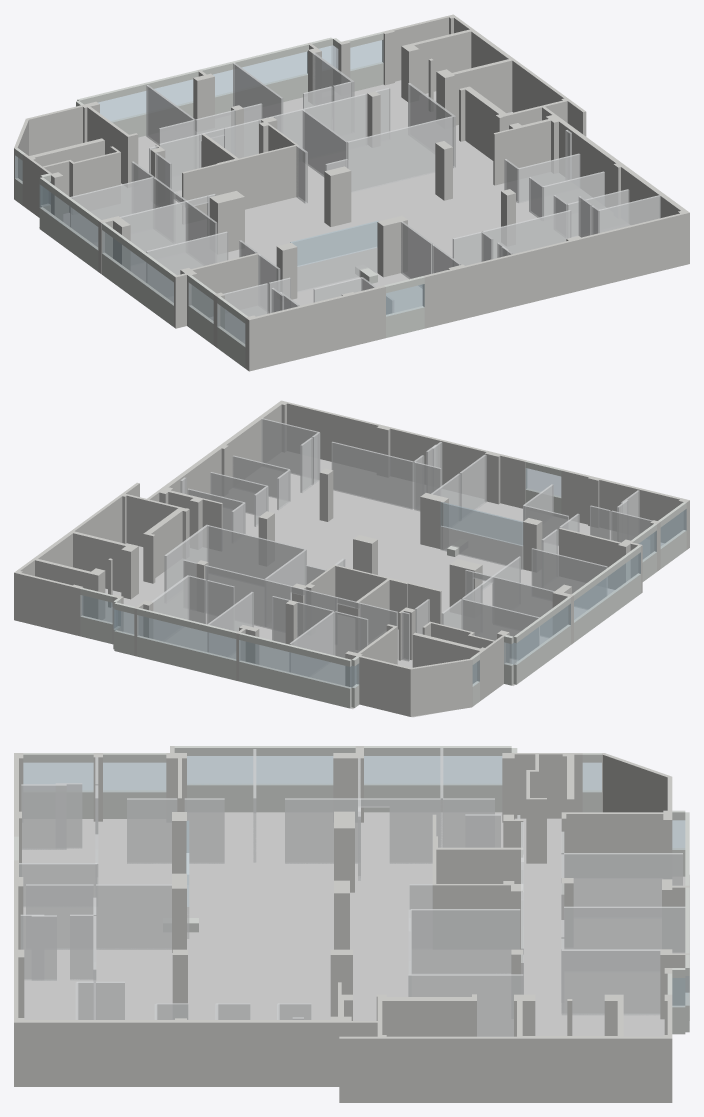
The model's file is 08-vector-partitions.glb.
The picture shows the model from 3 angles, top to bottom: view 1: azimuth 30°, elevation 25°; view 2: azimuth 150°, elevation 25°; view 3: azimuth 270°, elevation 25°; orthographic projection. The views are drawn at different scales.
Parts seen in each view (by area): view 1: Floor4_08-vector-partitions_concrete_Blocking, Floor4_08-vector-partitions_acrylic_Blocking, Floor4_08-vector-partitions_Floor, Floor4_08-vector-partitions_wall_Blocking, Floor4_08-vector-partitions_glass_Blocking; view 2: Floor4_08-vector-partitions_concrete_Blocking, Floor4_08-vector-partitions_acrylic_Blocking, Floor4_08-vector-partitions_Floor, Floor4_08-vector-partitions_wall_Blocking, Floor4_08-vector-partitions_glass_Blocking; view 3: Floor4_08-vector-partitions_concrete_Blocking, Floor4_08-vector-partitions_Floor, Floor4_08-vector-partitions_acrylic_Blocking, Floor4_08-vector-partitions_wall_Blocking, Floor4_08-vector-partitions_glass_Blocking.
Boxes of the visible parts, x1,y1,x2,y2 form: Floor4_08-vector-partitions_concrete_Blocking: (14, 14, 689, 371); Floor4_08-vector-partitions_acrylic_Blocking: (70, 53, 660, 341); Floor4_08-vector-partitions_Floor: (39, 80, 628, 343); Floor4_08-vector-partitions_wall_Blocking: (15, 32, 424, 368); Floor4_08-vector-partitions_glass_Blocking: (15, 40, 424, 346); Floor4_08-vector-partitions_concrete_Blocking: (14, 400, 689, 716); Floor4_08-vector-partitions_acrylic_Blocking: (151, 418, 652, 676); Floor4_08-vector-partitions_Floor: (103, 452, 664, 717); Floor4_08-vector-partitions_wall_Blocking: (80, 460, 686, 708); Floor4_08-vector-partitions_glass_Blocking: (80, 468, 686, 688); Floor4_08-vector-partitions_concrete_Blocking: (14, 746, 689, 1102); Floor4_08-vector-partitions_Floor: (22, 812, 689, 1036); Floor4_08-vector-partitions_acrylic_Blocking: (19, 748, 685, 1036); Floor4_08-vector-partitions_wall_Blocking: (14, 746, 689, 1034); Floor4_08-vector-partitions_glass_Blocking: (23, 756, 689, 1007).
Bounding box in the file's own units: 23.41 × 2.4 × 22.85.
